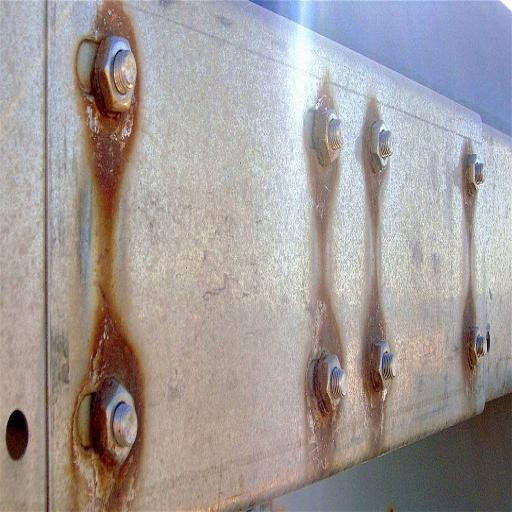segmentation: (72, 80, 138, 446), (76, 280, 142, 443), (89, 380, 112, 465), (100, 466, 136, 511)
